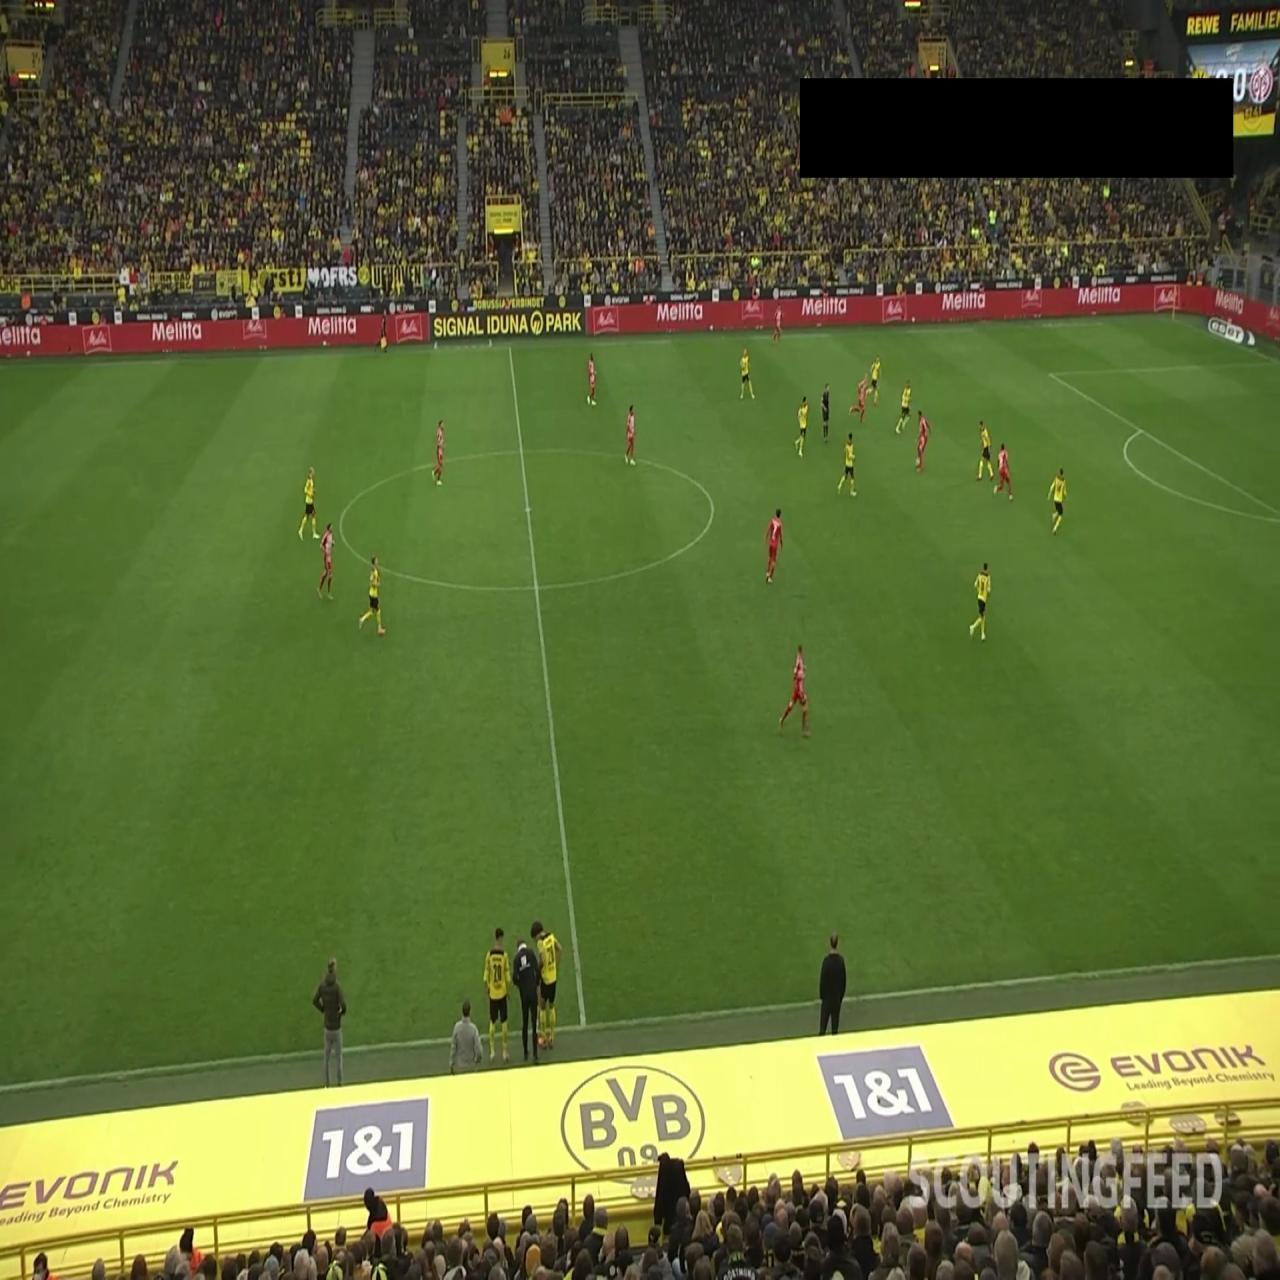Ball: (914, 456, 920, 471)
Player: (530, 919, 562, 1050), (482, 926, 512, 1064), (778, 644, 812, 738), (358, 554, 386, 636), (968, 560, 992, 642), (298, 466, 320, 542), (1046, 466, 1068, 534), (765, 508, 784, 584), (318, 521, 336, 601), (992, 442, 1014, 502), (838, 432, 858, 496), (976, 418, 995, 482), (848, 372, 869, 426), (914, 409, 930, 472), (895, 380, 913, 434), (739, 344, 756, 400), (432, 419, 446, 486), (795, 394, 809, 458), (624, 404, 636, 466), (771, 298, 784, 349), (869, 353, 880, 404), (586, 352, 596, 405)
Referee: (375, 308, 389, 356), (821, 382, 830, 444)
